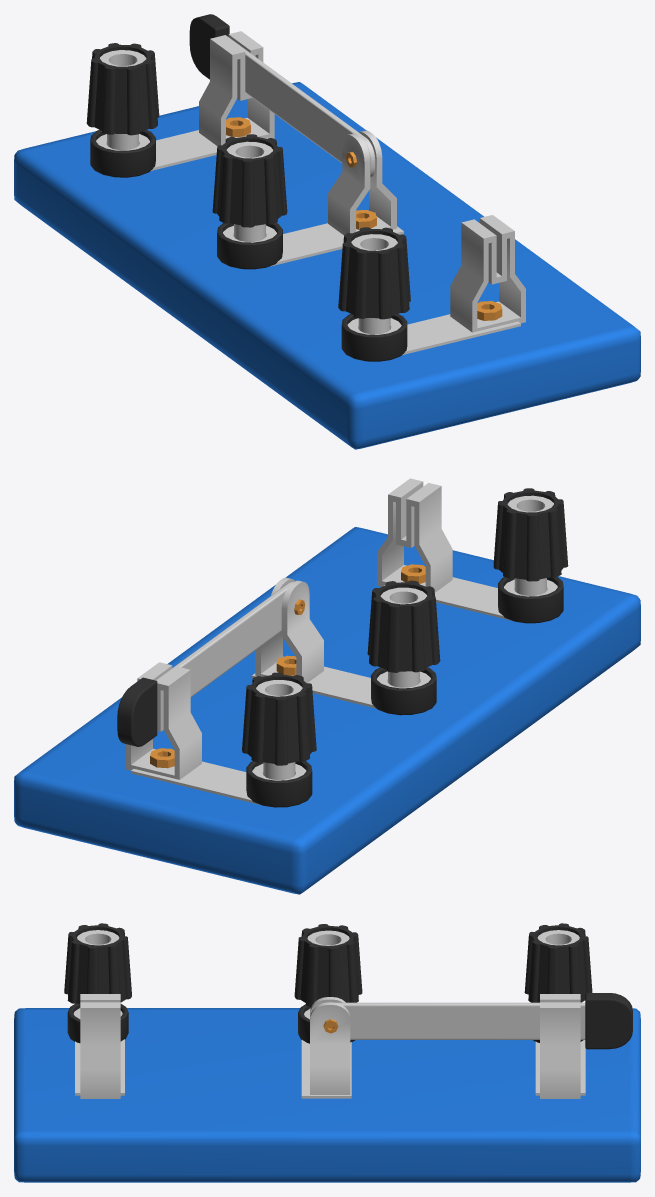
The model's file is Comp_Swich_2.fbx.
3 views of the same model, one above another, from view 1: azimuth 30°, elevation 25°; view 2: azimuth 150°, elevation 25°; view 3: azimuth 270°, elevation 25° (orthographic). The views are drawn at different scales.
Parts seen in each view (by area): view 1: Two Way Switch, Cube.015, Cube.014, Handle, Cube.016, Cube.013, Cube.012; view 2: Two Way Switch, Cube.015, Cube.014, Handle, Cube.016, Cube.013, Cube.012; view 3: Two Way Switch, Cube.015, Handle, Cube.014, Cube.013, Cube.016, Cube.012.
Part boxes in pixels (x1,y1,x2,y2): Two Way Switch: (14, 82, 640, 449); Cube.015: (86, 43, 520, 361); Cube.014: (212, 134, 403, 269); Handle: (189, 14, 375, 177); Cube.016: (450, 215, 525, 332); Cube.013: (199, 31, 274, 145); Cube.012: (328, 130, 396, 235); Two Way Switch: (14, 527, 640, 894); Cube.015: (131, 488, 568, 807); Cube.014: (252, 580, 440, 715); Handle: (117, 582, 293, 746); Cube.016: (377, 478, 452, 592); Cube.013: (126, 662, 201, 779); Cube.012: (255, 577, 323, 682); Two Way Switch: (14, 1008, 640, 1182); Cube.015: (64, 923, 592, 1095); Handle: (336, 993, 632, 1049); Cube.014: (294, 924, 362, 1098); Cube.013: (540, 994, 580, 1098); Cube.016: (80, 994, 120, 1098); Cube.012: (310, 997, 350, 1094).
Size of the model in its own units: 133 by 71.46 by 272.
